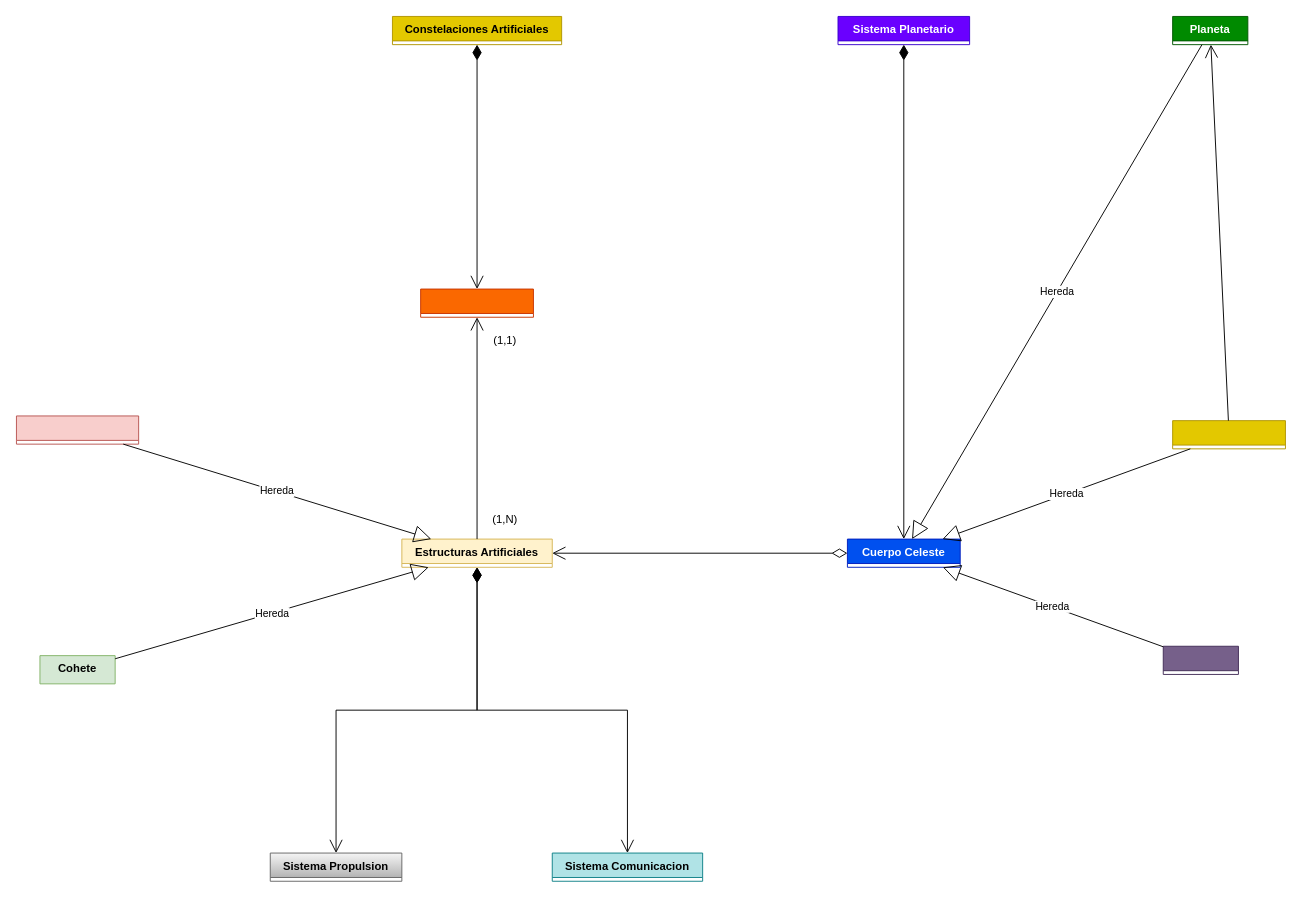
Some shapes in this 1302 by 898 pixel diagram are drawn without their labels. The shapes that lost their labels are listed below. From the top down, each one's box as (x1, y1, x2, y2) in pixels, then its label:
(420, 288, 533, 317): Centro Control
(16, 415, 139, 444): Satélite Artificial
(1172, 420, 1285, 449): Satélite Natural
(1162, 645, 1238, 674): Cometa
